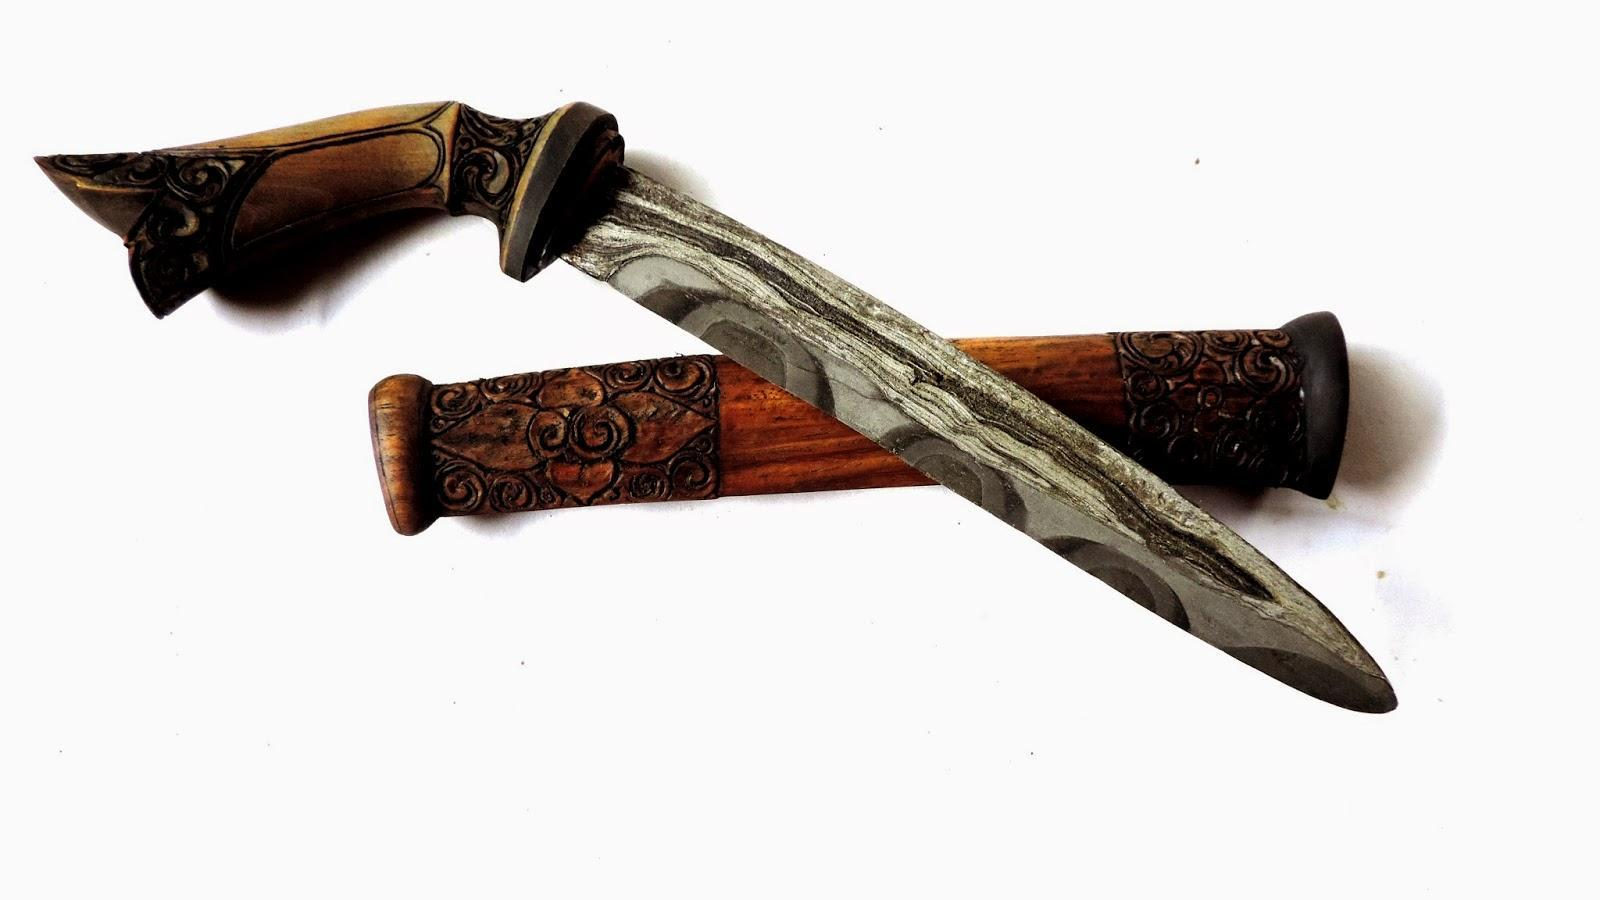facao: (43, 103, 1395, 712)
